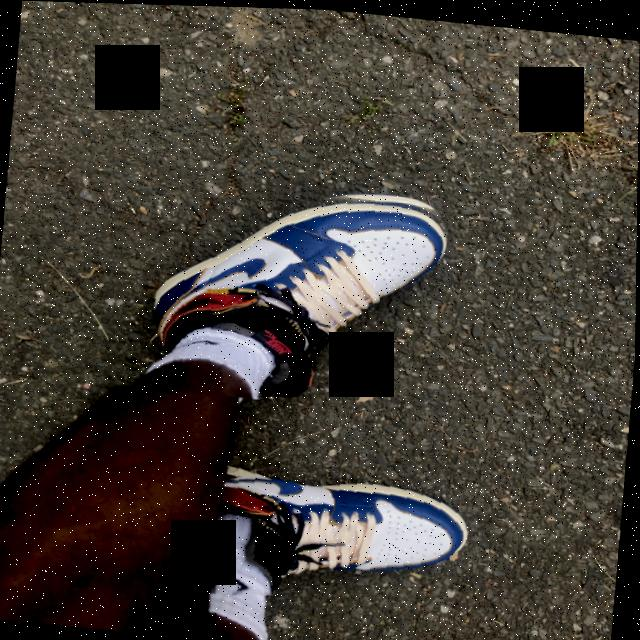shoe: (101, 164, 468, 415), (169, 449, 496, 620)
